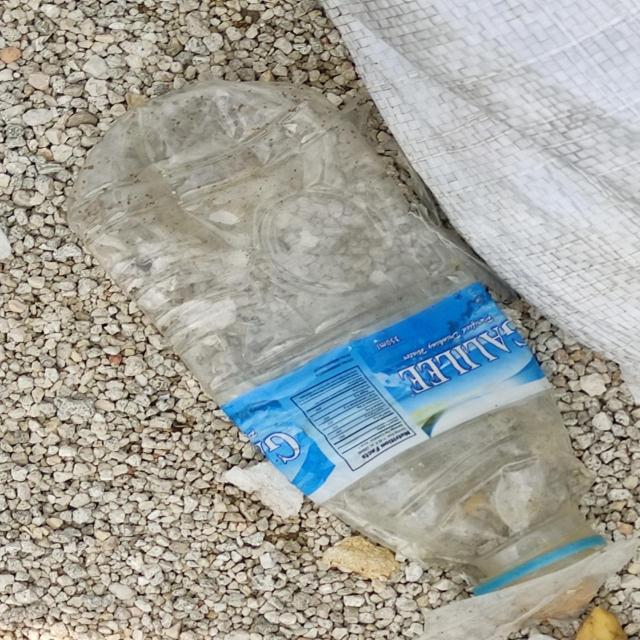plastic_waste: (74, 81, 607, 601)
